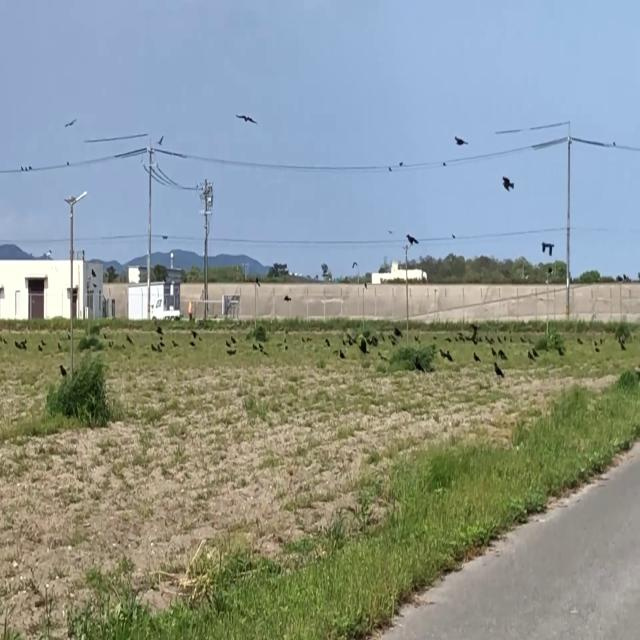bird: (237, 104, 255, 131), (502, 168, 514, 194), (454, 128, 466, 152), (406, 229, 417, 251), (494, 357, 502, 381), (159, 130, 163, 150), (229, 330, 234, 345), (500, 348, 504, 365), (447, 348, 451, 364), (527, 349, 531, 363)
